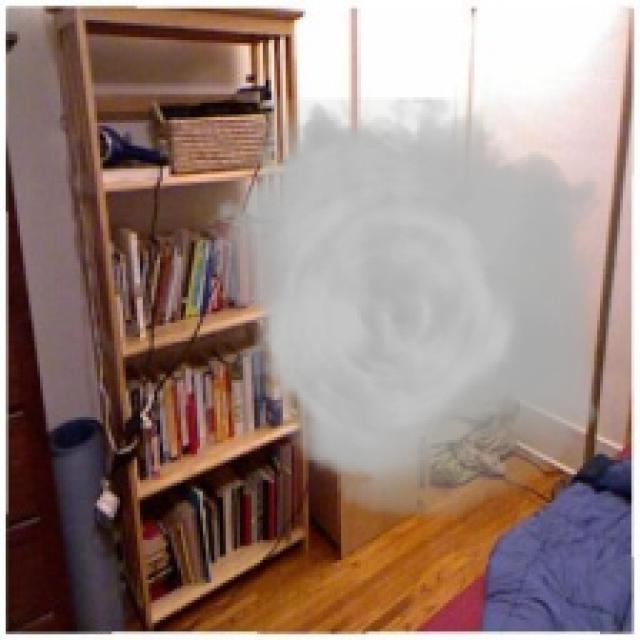smoke: (194, 97, 620, 520)
